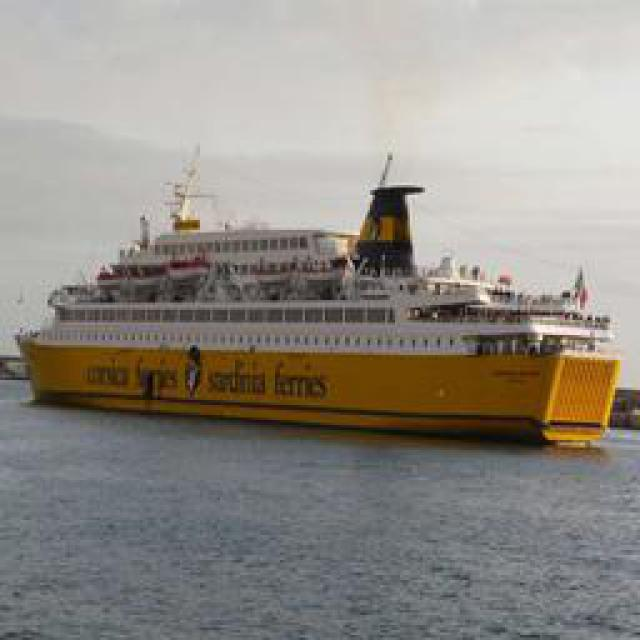Ship: (17, 135, 620, 438)
